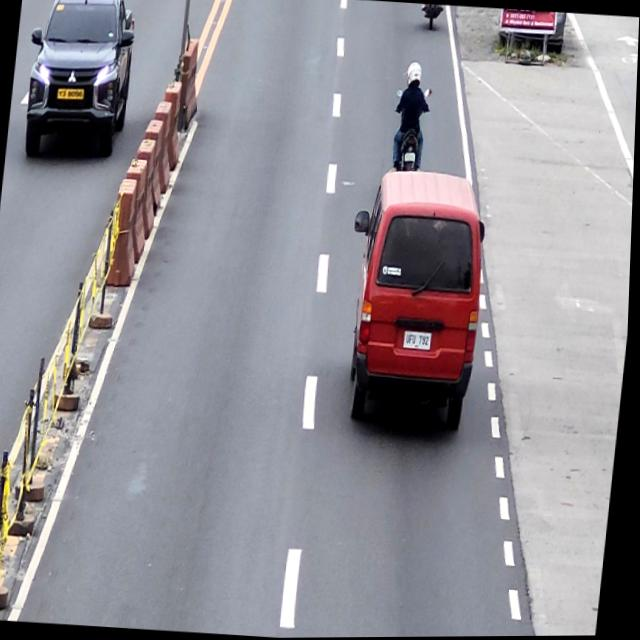Car: (335, 168, 496, 433)
License-Plate: (405, 331, 433, 351), (404, 152, 418, 163)
Motorcycle: (387, 87, 434, 172)
